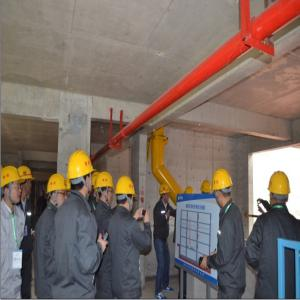yellow: (68, 149, 93, 196), (113, 174, 137, 212), (212, 167, 234, 207), (269, 169, 291, 209), (2, 165, 22, 207), (94, 170, 115, 206), (47, 173, 69, 207), (19, 165, 34, 197), (159, 183, 172, 204)
